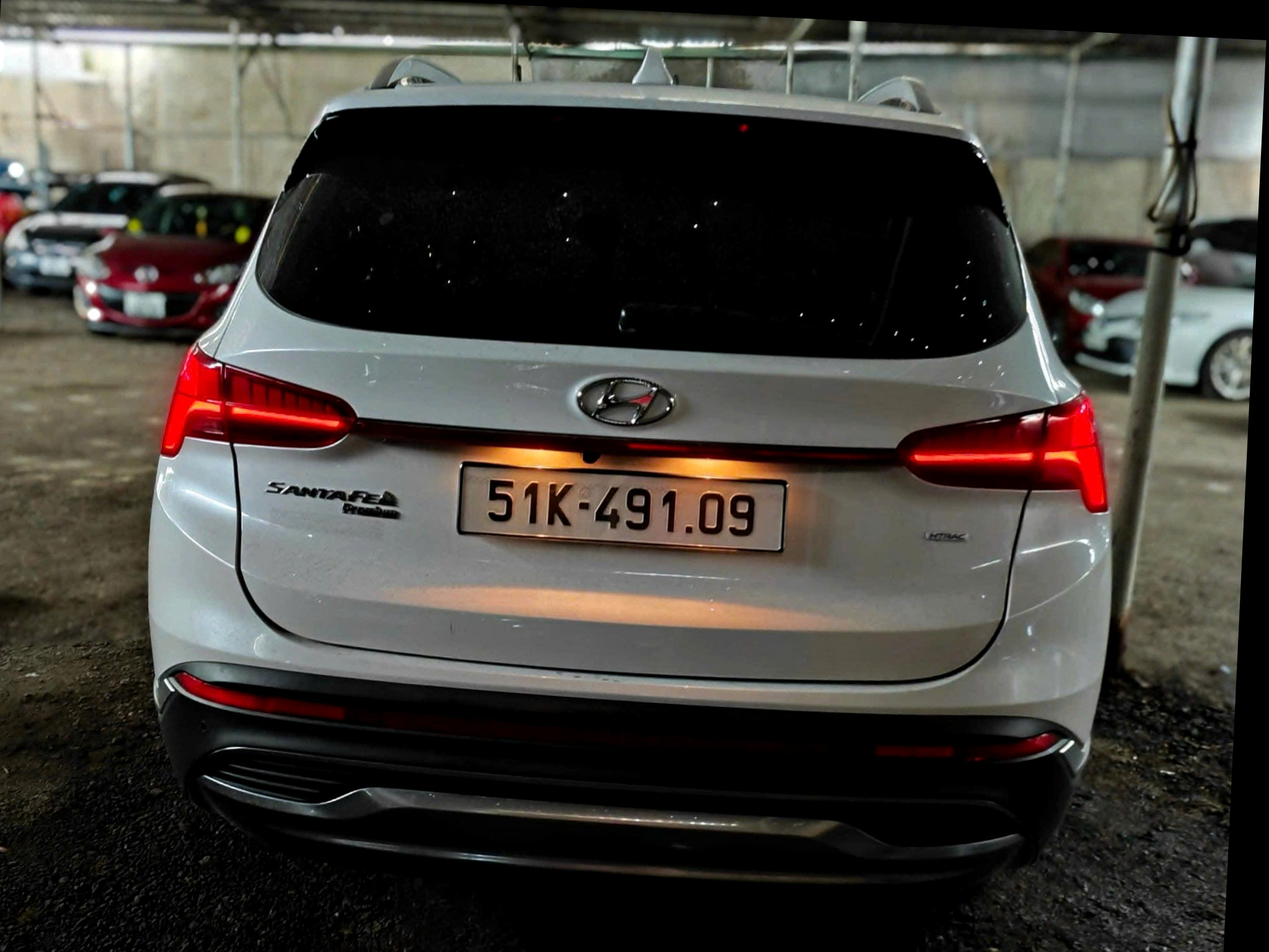Bien-so: (516, 431, 841, 523)
